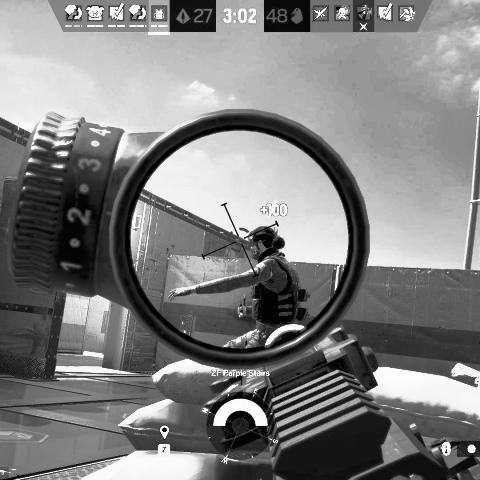Character: (167, 225, 311, 352)
Head: (247, 226, 285, 262)
